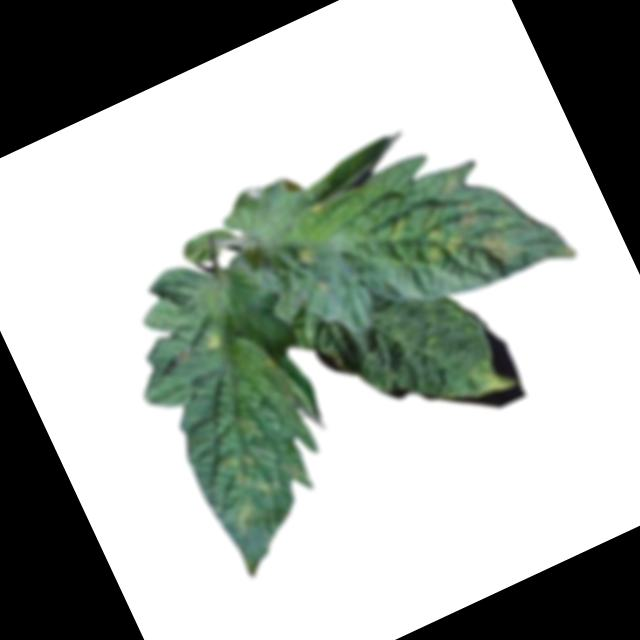Leaf_Mold: (370, 193, 469, 288), (451, 356, 518, 411), (220, 495, 265, 540), (197, 328, 225, 357)
